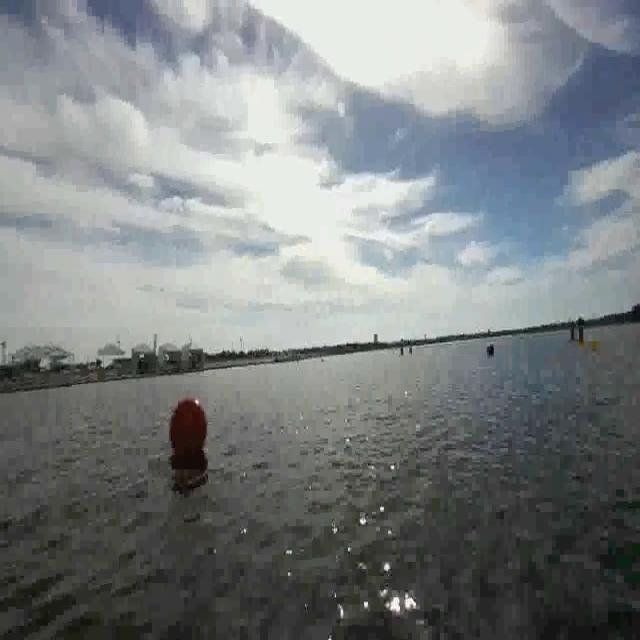blue-buoy: (486, 339, 494, 357)
red-buoy: (170, 398, 207, 458)
yellow-buoy: (591, 338, 599, 352)
